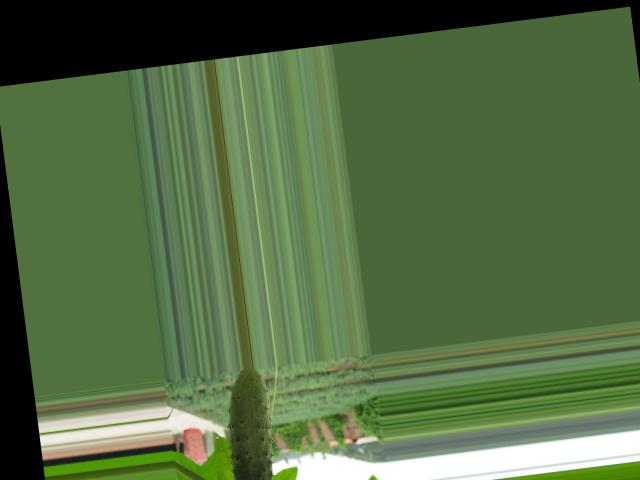cucumber: (220, 366, 281, 480)
